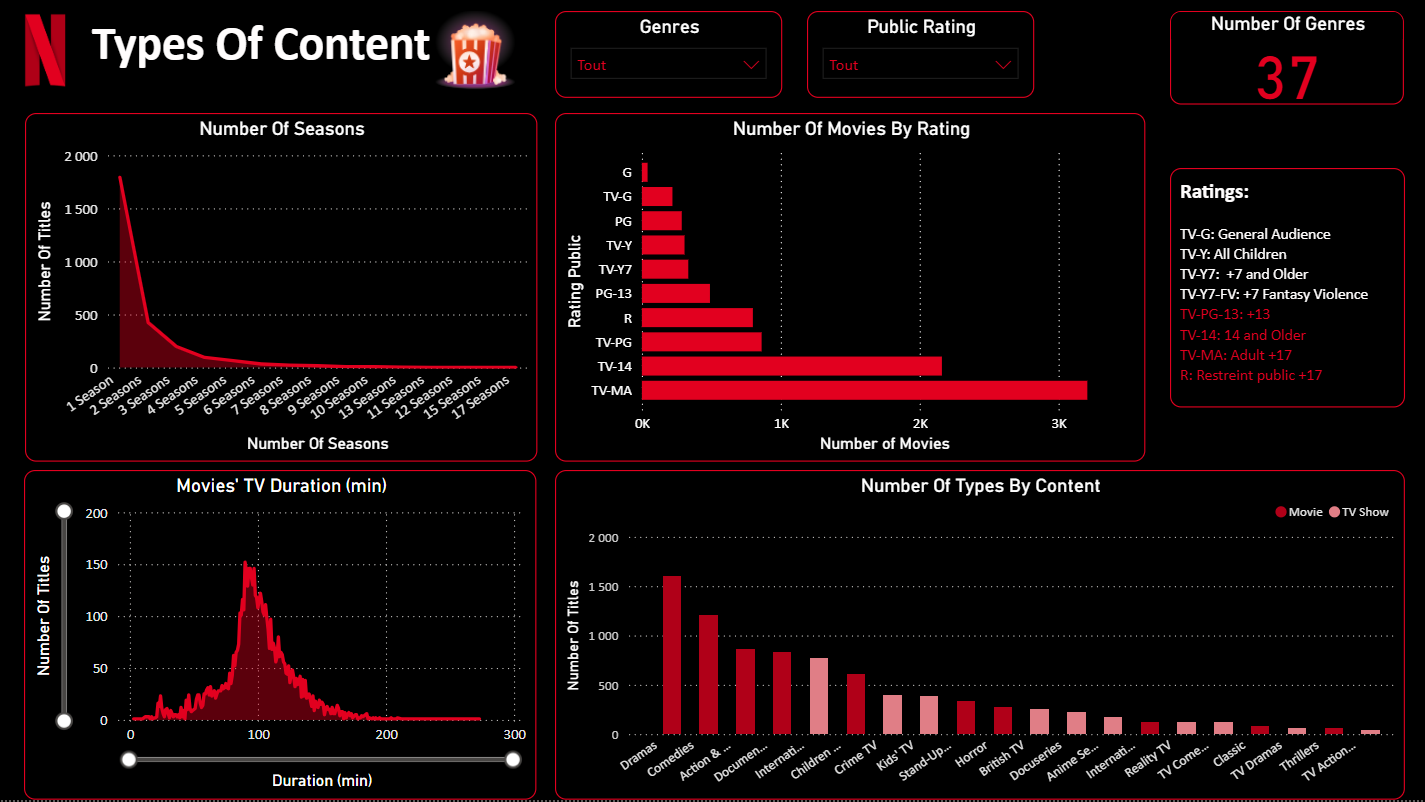

What the dashboard file says about the page in this screenshot:
{"tool":"powerbi","page":{"name":"Types_of_content","canvas":[1280,720],"ordinal":1},"visuals":[{"type":"textbox","box":[1051.3,152.6,211,215.5],"z":0},{"type":"textbox","box":[69.1,9,332.2,84.4],"z":1000},{"type":"image","box":[5.8,8.8,71,76.8],"z":2000},{"type":"barChart","title":"Number Of Movies By Rating","fields":{"Category":["netflix_titles.rating"],"Y":["CountNonNull(netflix_titles.type_tv_movie)"]},"box":[499,103.1,530.4,313.5],"z":3000},{"type":"stackedAreaChart","title":"Number Of Seasons","fields":{"Category":["netflix_titles.duration"],"Y":["Count(netflix_titles.title)"]},"box":[23,103.2,459.7,313.5],"z":4000},{"type":"areaChart","title":"Movies'' TV Duration (min)","fields":{"Y":["CountNonNull(netflix_titles.title)"],"Category":["netflix_titles.duration _min"]},"box":[22.6,423.9,459.9,296.3],"z":5000},{"type":"card","title":"Number Of Genres","fields":{"Values":["Count(netflix_titles.listed_in_1)"]},"box":[1051.3,11.7,210.1,84.4],"z":6000},{"type":"slicer","title":"Genres","fields":{"Values":["netflix_titles.listed_in_1"]},"box":[499.2,11.7,203.8,78.1],"z":7000},{"type":"slicer","title":"Public Rating","fields":{"Values":["netflix_titles.rating_public"]},"box":[725.4,11.7,203.8,78.1],"z":8000},{"type":"clusteredColumnChart","title":"Number Of Types By Content","fields":{"Series":["netflix_titles.type_tv_movie"],"Category":["netflix_titles.genre_1_abrege"],"Y":["CountNonNull(netflix_titles.type_tv_movie)"]},"box":[499,424.1,762.6,296.1],"z":9000},{"type":"image","box":[385.1,2.9,84.3,90.1],"z":10000}]}

Visuals, with their boxes in screenshot pixels (x1, y1, x2, y2), scaled from the page's 1280x720 canvas onto the 1425x802 screenshot:
textbox: (1170, 170, 1405, 410)
textbox: (77, 10, 447, 104)
image: (6, 10, 86, 95)
"Number Of Movies By Rating" barChart: (556, 115, 1146, 464)
"Number Of Seasons" stackedAreaChart: (26, 115, 537, 464)
"Movies'' TV Duration (min)" areaChart: (25, 472, 537, 801)
"Number Of Genres" card: (1170, 13, 1404, 107)
"Genres" slicer: (556, 13, 783, 100)
"Public Rating" slicer: (808, 13, 1034, 100)
"Number Of Types By Content" clusteredColumnChart: (556, 472, 1405, 801)
image: (429, 3, 523, 104)
